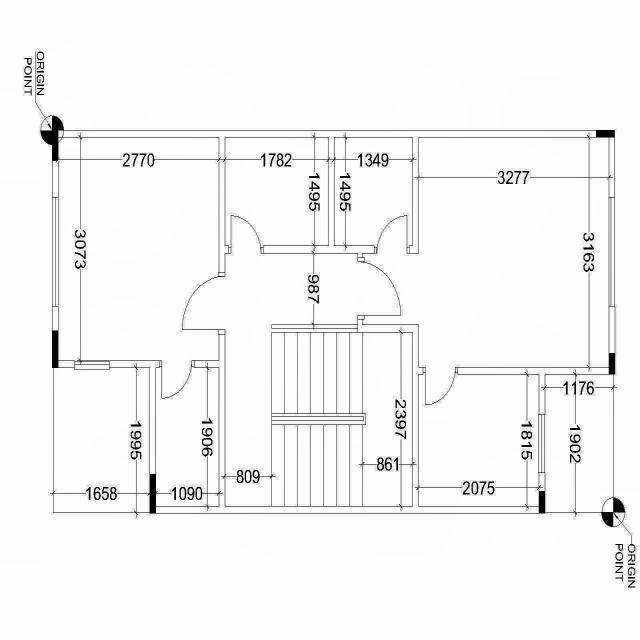Column: (150, 474, 156, 514), (52, 331, 58, 368), (52, 130, 58, 162), (538, 491, 546, 514), (608, 352, 616, 374), (596, 130, 615, 138)
Door: (181, 271, 226, 335), (358, 258, 400, 320), (228, 214, 264, 253), (374, 216, 410, 253), (423, 367, 458, 405), (160, 361, 194, 398)
Staircase: (272, 332, 412, 506)
Window: (52, 197, 58, 307), (609, 197, 615, 307), (538, 414, 545, 472), (74, 360, 110, 370)
